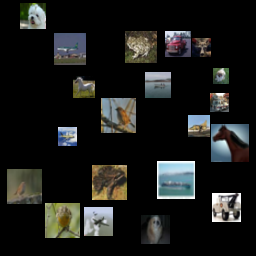airplane: (200, 12, 226, 38), (111, 85, 137, 111), (165, 216, 187, 238)
automobile: (129, 156, 155, 182), (202, 112, 221, 131)
bird: (35, 178, 70, 213)
cat: (9, 138, 41, 170), (103, 22, 125, 44)
deer: (42, 47, 58, 63)
dog: (131, 33, 169, 71), (70, 216, 102, 248)
frog: (53, 122, 88, 157), (176, 64, 211, 99), (144, 79, 170, 105)
ship: (207, 214, 245, 252), (156, 147, 191, 182), (33, 83, 68, 118), (74, 46, 109, 81), (21, 4, 53, 36)
